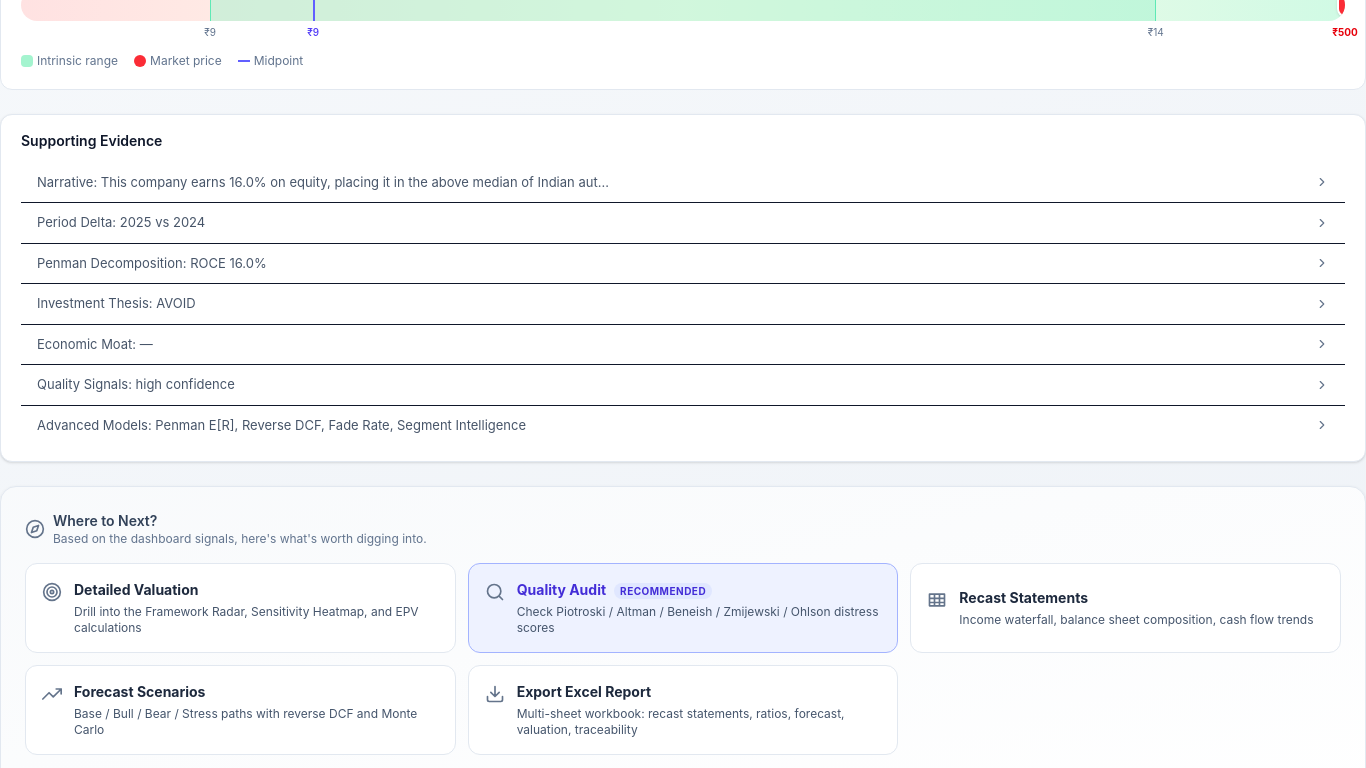
DashboardView — the Earnings Quality tile › shows the measured composite, not the parser-fidelity score
(page scrolled)
Click the button "Quality Signals: high confidence".
click(136, 384)  # box [21, 365, 1345, 404]
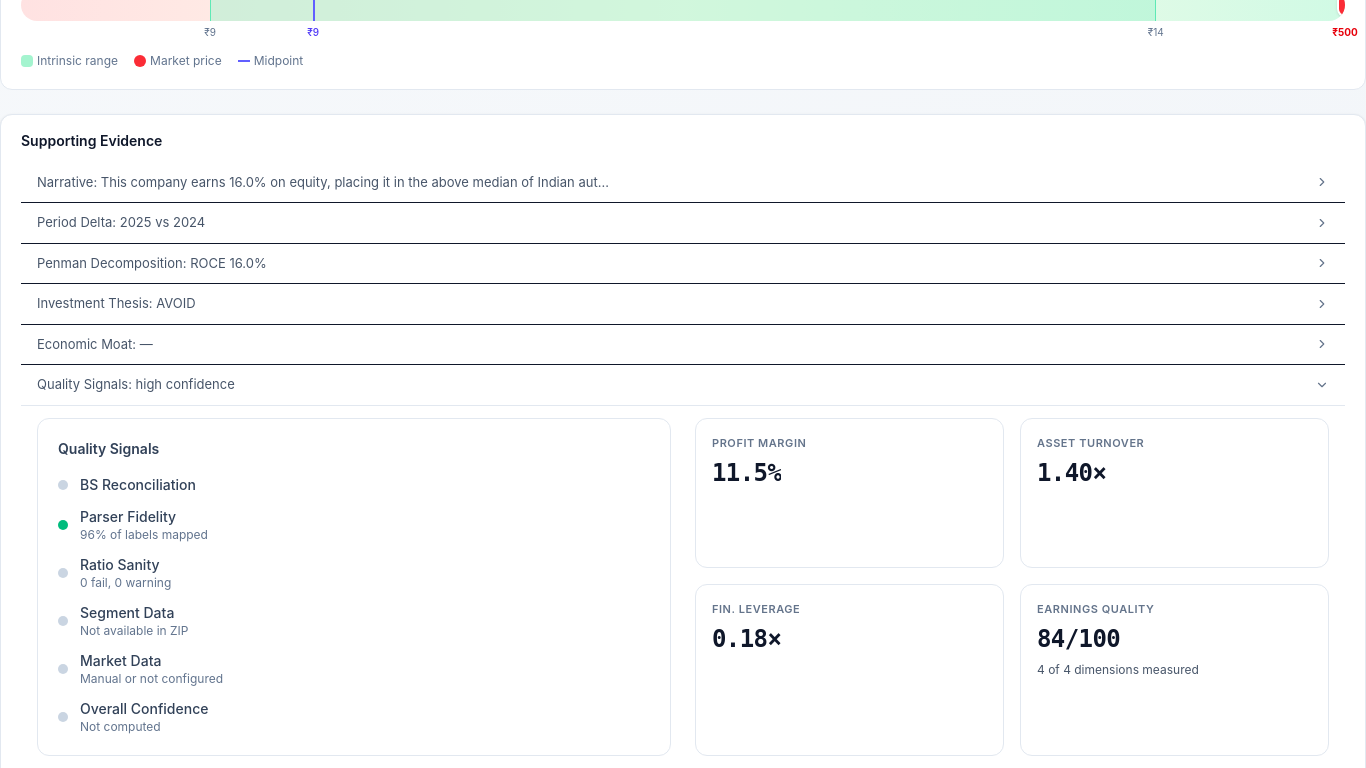
Check: the element with class "wb-metric" that starts with "Earnings Quality" is shown, box [1020, 584, 1329, 756]
